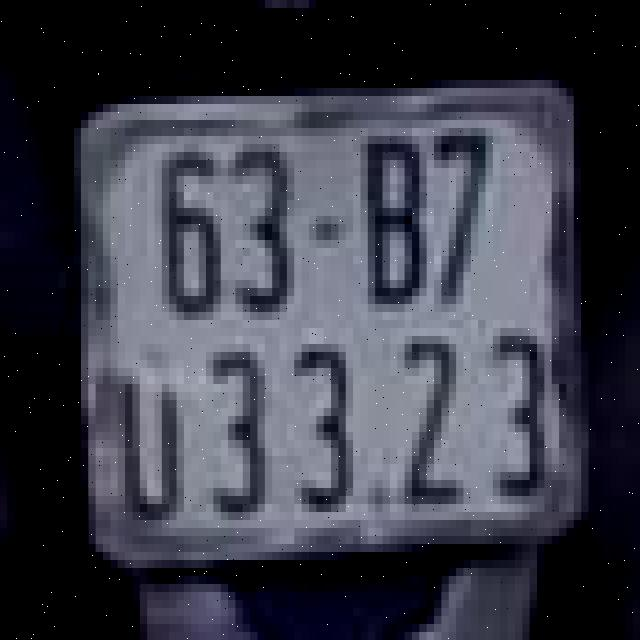0: (106, 348, 188, 540)
2: (405, 316, 478, 508)
3: (228, 128, 302, 336), (486, 304, 552, 512), (202, 336, 268, 528), (290, 336, 356, 520)
6: (155, 136, 228, 328)
7: (431, 116, 512, 308)
B: (357, 120, 438, 304)
